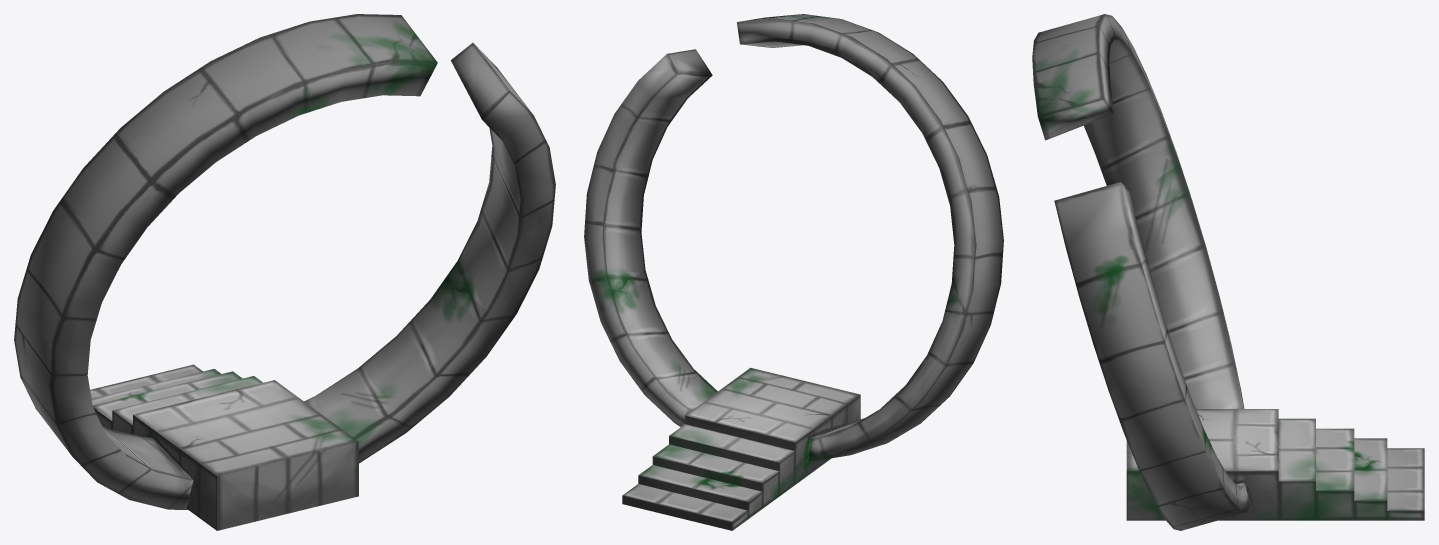
The model's file is garuda altar .fbx.
3 renders of one model, left to right at view 1: azimuth 30°, elevation 25°; view 2: azimuth 150°, elevation 25°; view 3: azimuth 270°, elevation 25°, orthographic. The views are drawn at different scales.
Visible parts, largest first — view 1: Cube; view 2: Cube; view 3: Cube.
Boxes of the visible parts, x1,y1,x2,y2 form: Cube: (14, 14, 555, 530); Cube: (584, 14, 1003, 530); Cube: (1032, 14, 1424, 530).
Size of the model in its own units: 2708 by 2692 by 2050.
Materials: 1 (1 with a texture image).
